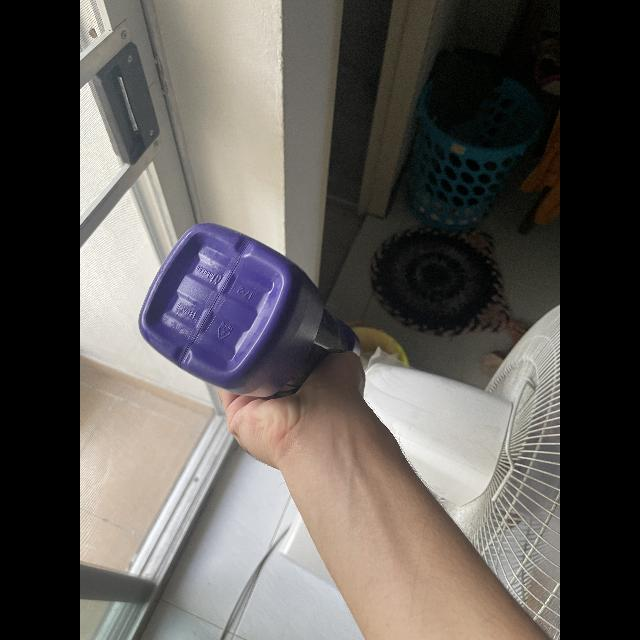chemical_plastic_bottle: (135, 221, 365, 423)
